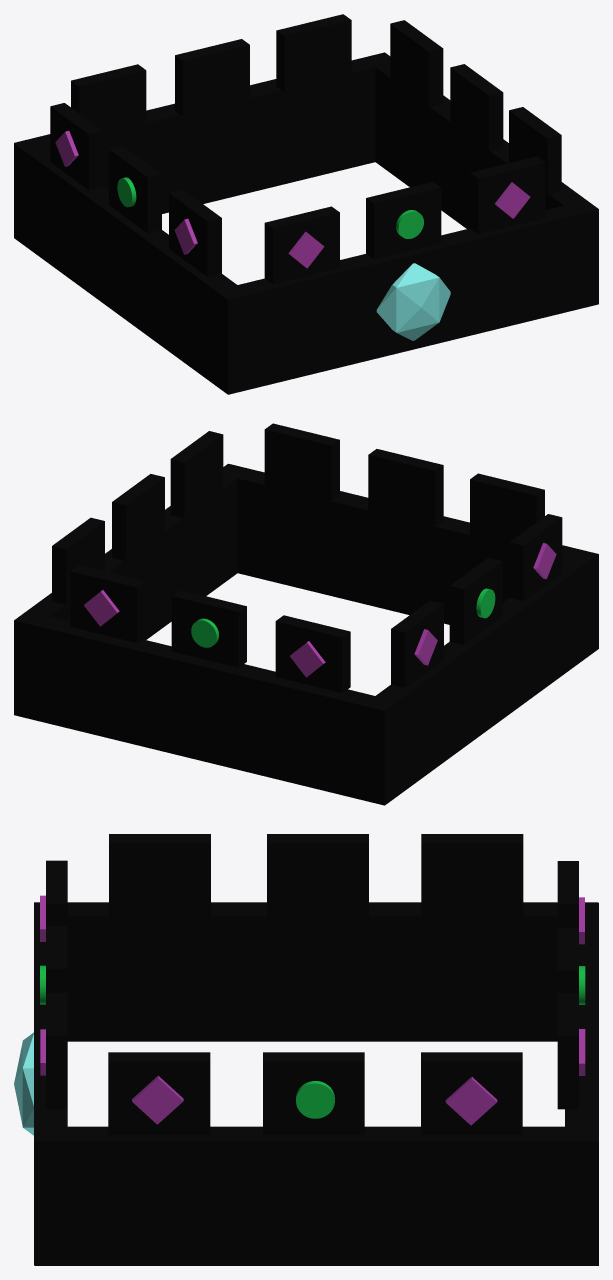
The model's file is crown.fbx.
3 views of the same model, one above another, from view 1: azimuth 30°, elevation 25°; view 2: azimuth 150°, elevation 25°; view 3: azimuth 270°, elevation 25° (orthographic). The views are drawn at different scales.
Parts seen in each view (by area): view 1: root (×21), node_id149 (×3); view 2: root (×21); view 3: root (×19), node_id149.
Boxes of the visible parts, x1=… form: root (×21): x1=14, y1=14, x2=598, y2=394; node_id149 (×3): x1=376, y1=263, x2=439, y2=332; root (×21): x1=14, y1=423, x2=598, y2=805; root (×19): x1=34, y1=834, x2=598, y2=1265; node_id149: x1=22, y1=1068, x2=33, y2=1127.
Bounding box in the file's own units: 0.5337 × 0.2069 × 0.5528.
Materials: 18 (12 with a texture image).
